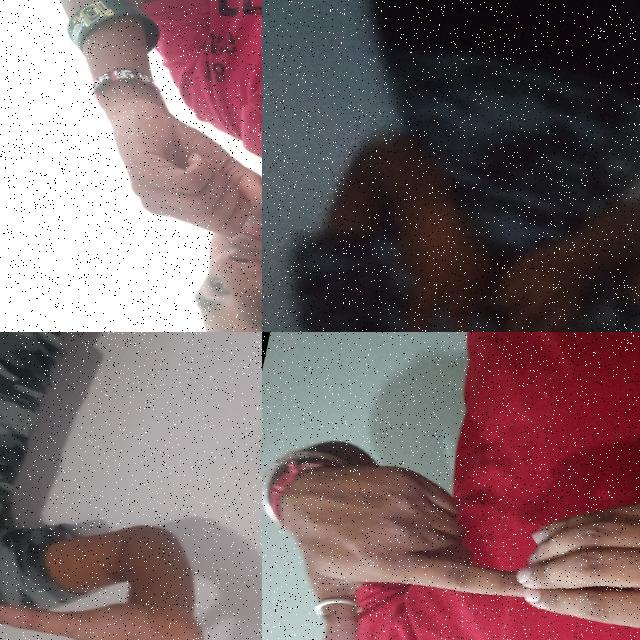Fist Mouth: (45, 80, 262, 332)
Five Fathers: (262, 407, 640, 640)
Moutza: (0, 541, 262, 640)
Reversed Victory: (364, 183, 516, 332), (466, 217, 614, 332)
